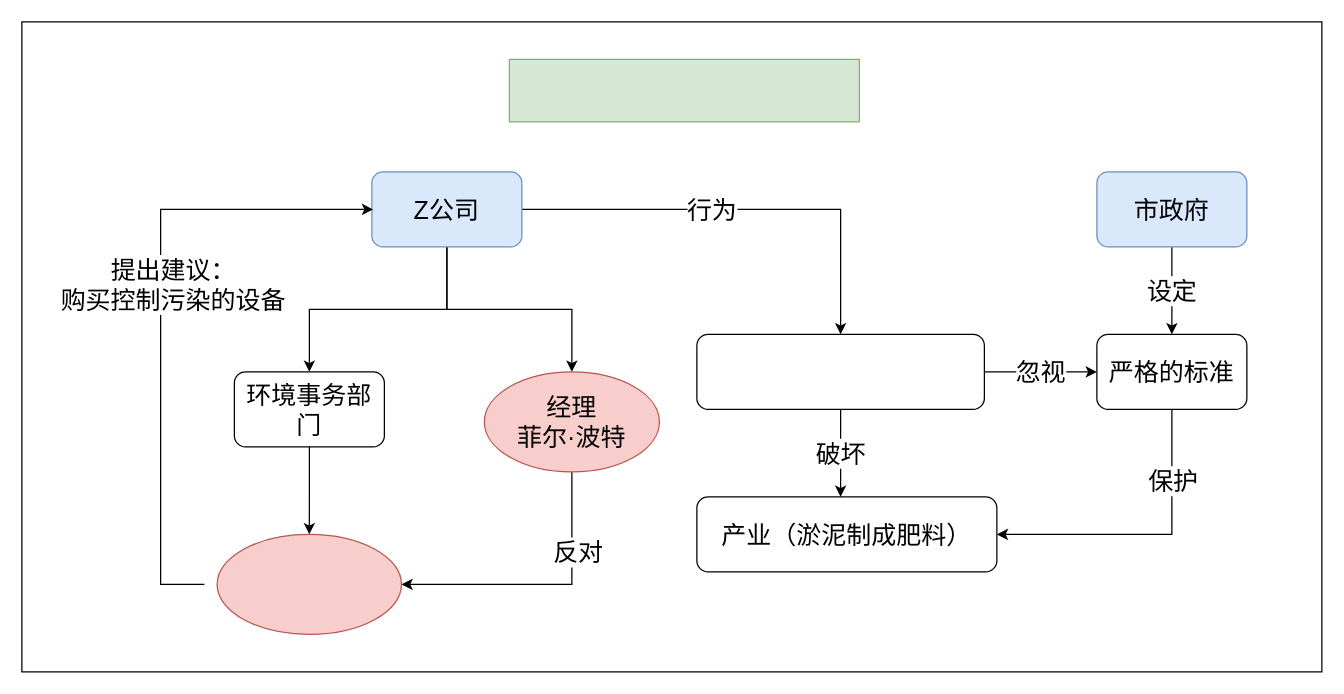
Image size: 1344x694. Some labels were removed from this diagram. Each missing label, with the centre of its shape:
吉尔班城: the point at 683,90
将生产过程中产生的铅和砷排入城市的下水道中: the point at 840,371
工程师 大卫·杰克逊: the point at 309,583
